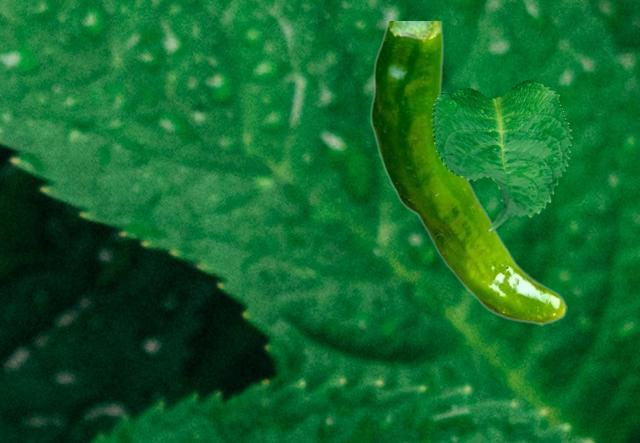green_chili: (370, 21, 566, 324)
